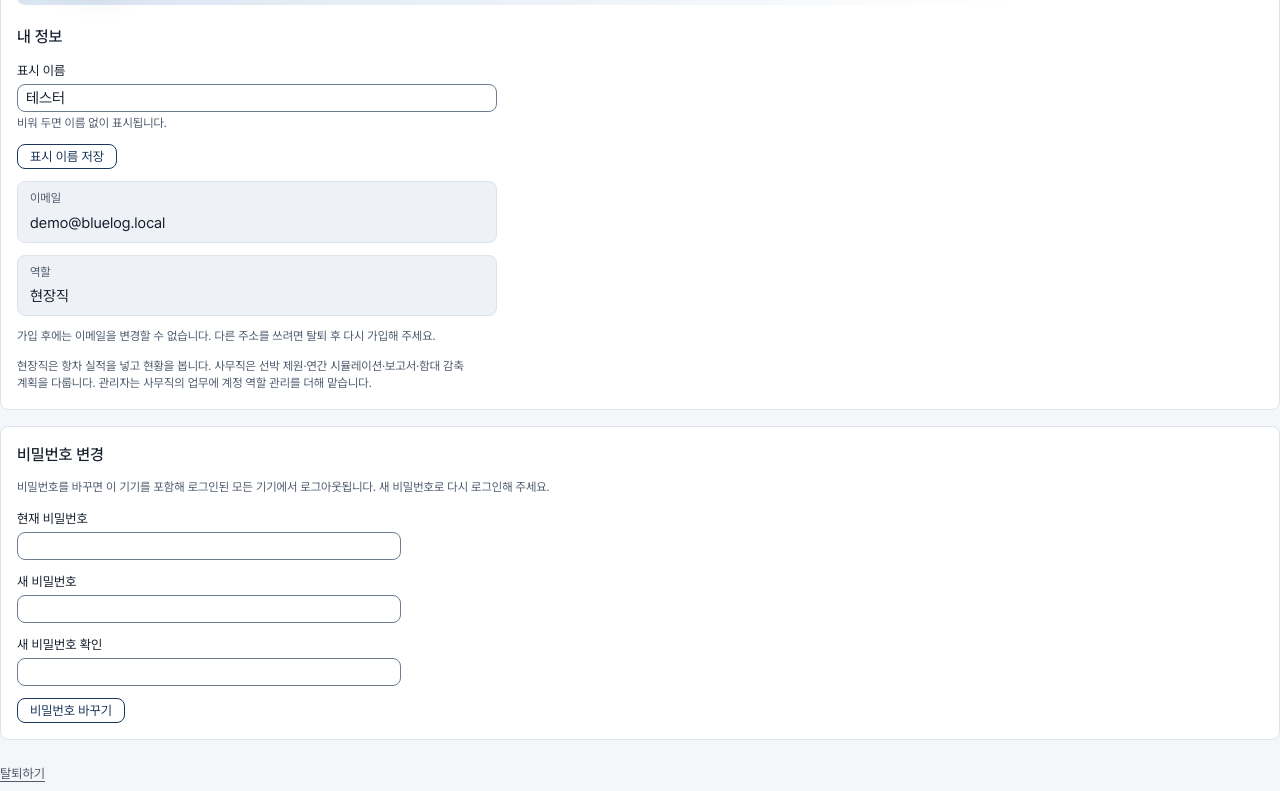
it: 실패는 화면에 남는다 — 탈퇴된 척하지 않는다 (#754) › 서버가 거부하면 사유를 보여 주고 화면에 머문다
(page scrolled)
Click the button "탈퇴하기". click: (22,773)
box: left=0, top=764, right=45, bottom=783
(page scrolled)
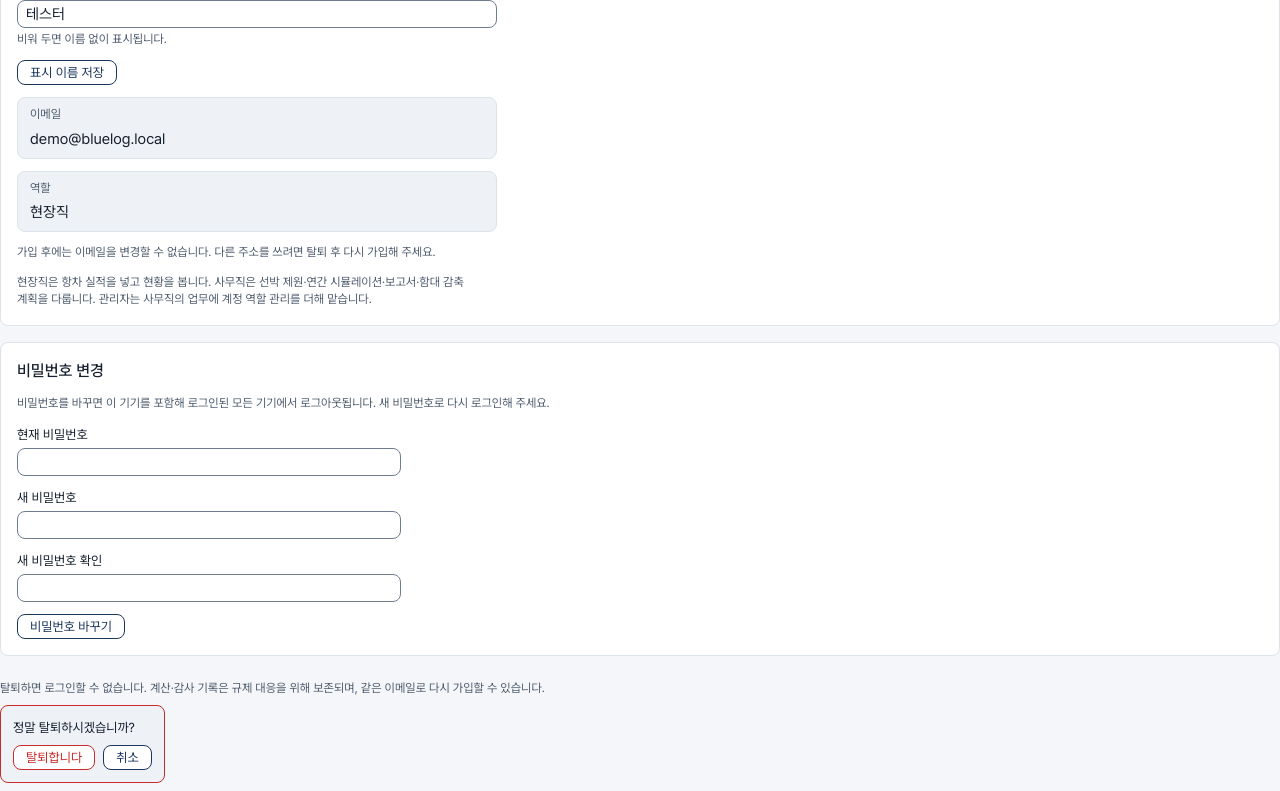
Click the button "탈퇴합니다". click: (54,758)
box: left=13, top=746, right=95, bottom=770
(page scrolled)
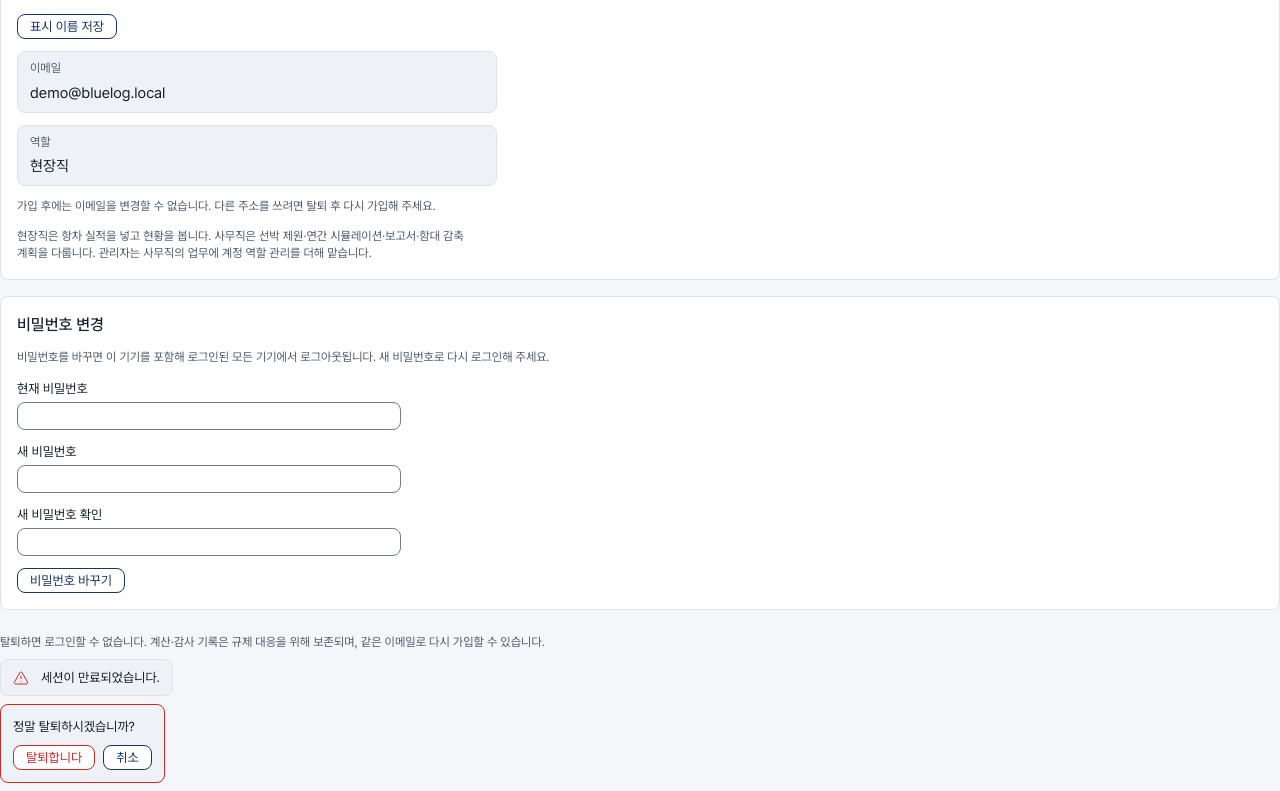
Result: the button "탈퇴합니다" is shown at left=13, top=744, right=95, bottom=770
Result: the text "세션이 만료되었습니다." is shown at left=41, top=668, right=160, bottom=688
